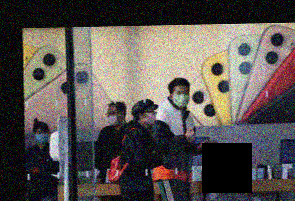with_mask: (173, 89, 190, 108), (106, 108, 120, 126), (143, 109, 157, 126), (34, 129, 48, 145)
